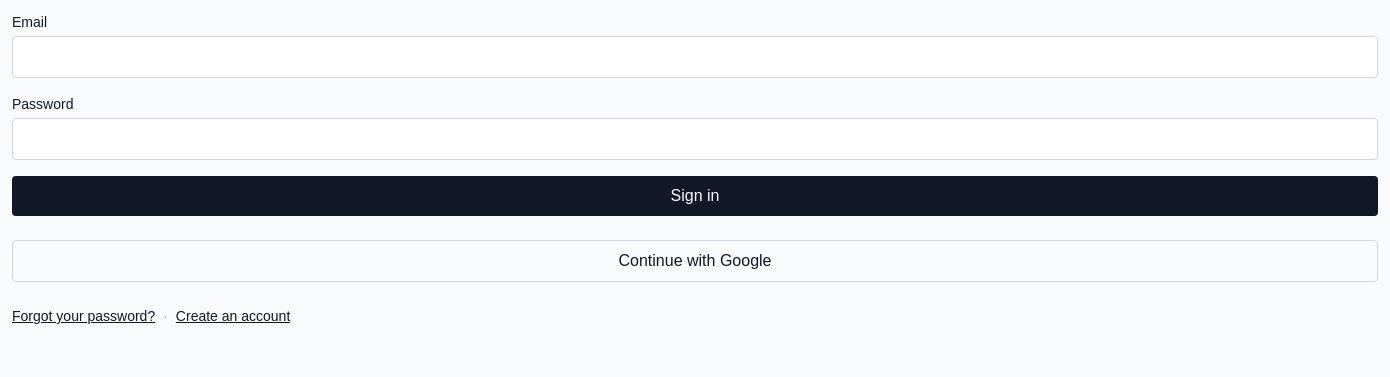
Test: AuthForm (sign-in) › never reveals which credential was wrong
The image size is (1390, 377).
Type "jo@x.au" into the field labelled "Email". click: (695, 57)
box: [12,36,1378,78]
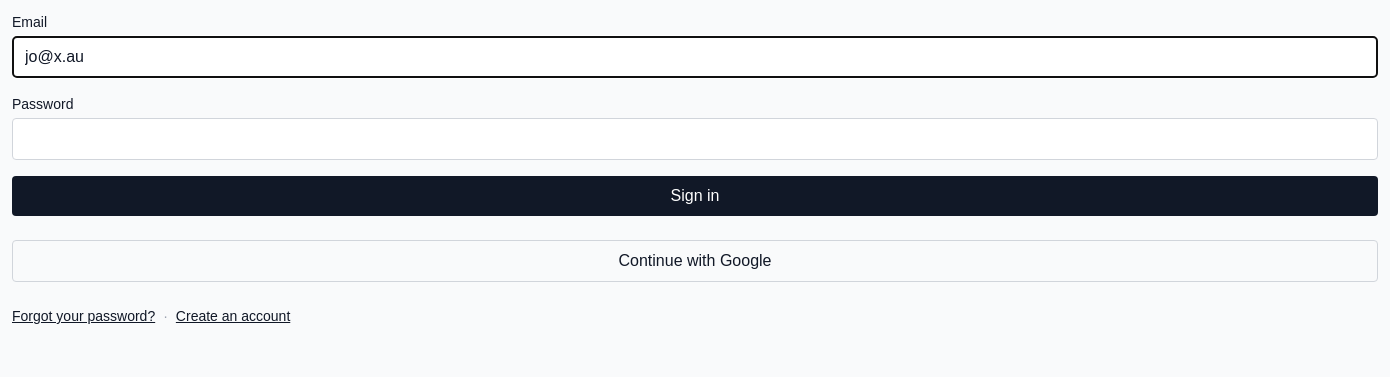
Type "long-enough-pass" into the password field labelled "Password". click: (695, 139)
box: [12,118,1378,160]
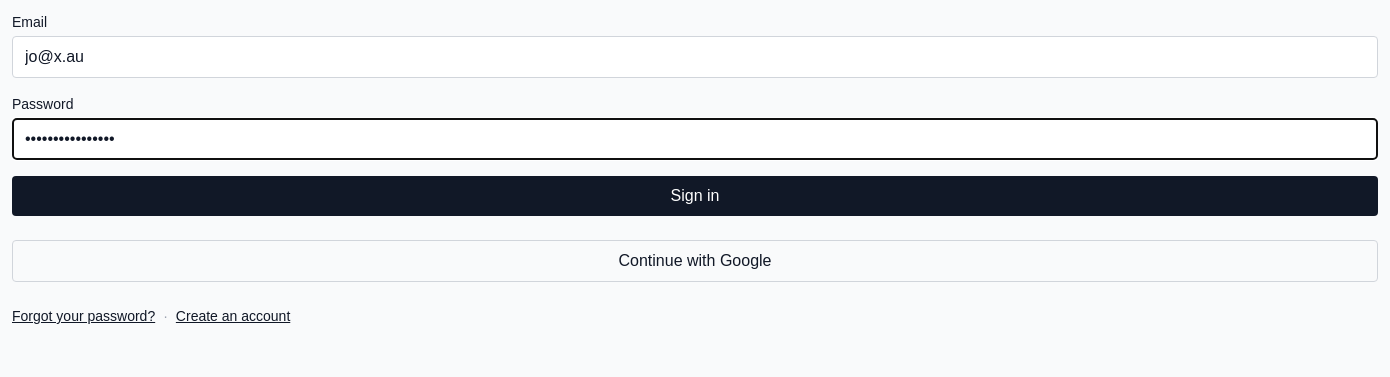
Click the button "Sign in". click: (695, 196)
box: [12,176,1378,216]
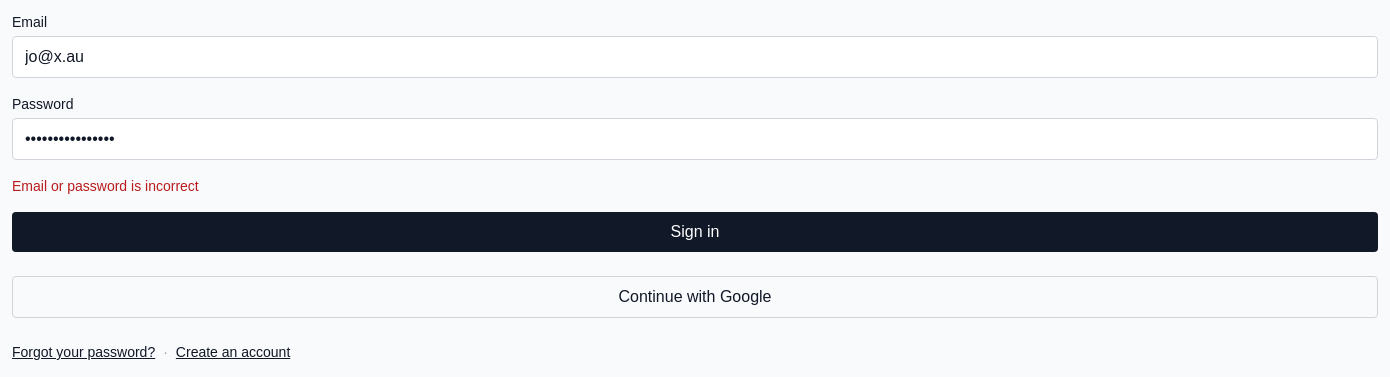
Result: the text "Email or password is incorrect" is shown at [12,178,199,194]
